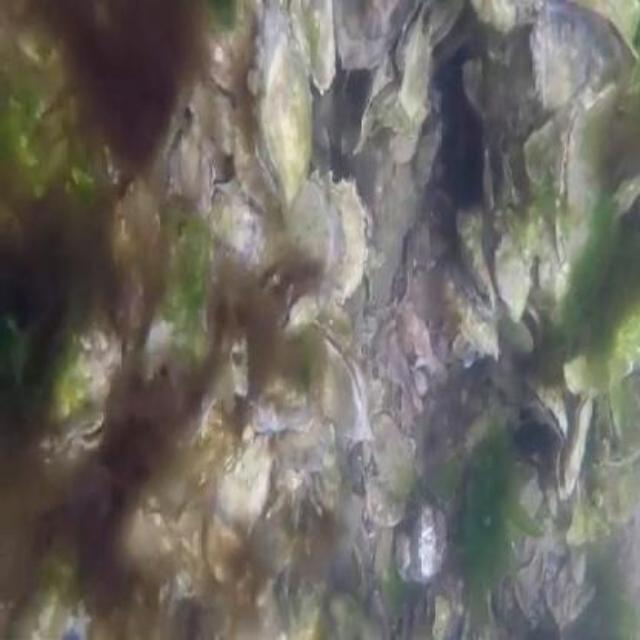Oyster-Closed: (555, 83, 621, 260), (255, 36, 312, 213), (285, 174, 365, 298), (563, 315, 638, 397), (528, 14, 589, 104), (331, 0, 396, 72), (167, 135, 217, 222), (289, 0, 335, 88), (208, 181, 257, 263), (457, 203, 496, 305), (254, 376, 314, 434), (372, 416, 414, 496), (401, 507, 445, 581), (495, 239, 529, 315), (527, 121, 558, 191), (279, 293, 320, 345), (468, 0, 548, 26), (427, 0, 463, 51)
Oyster-Open: (39, 314, 121, 465), (321, 332, 369, 439), (555, 397, 590, 500), (514, 375, 567, 442), (499, 303, 542, 356), (483, 146, 516, 215), (396, 0, 424, 72), (465, 58, 499, 113), (604, 389, 622, 446)
